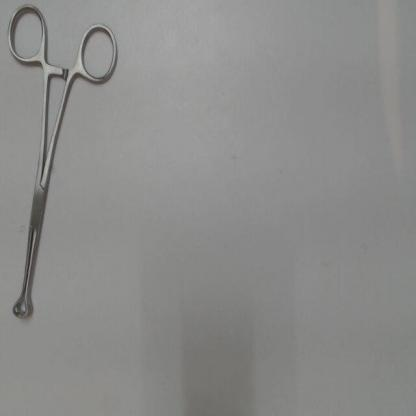Babcock Tissue Forceps: (3, 1, 122, 322)
